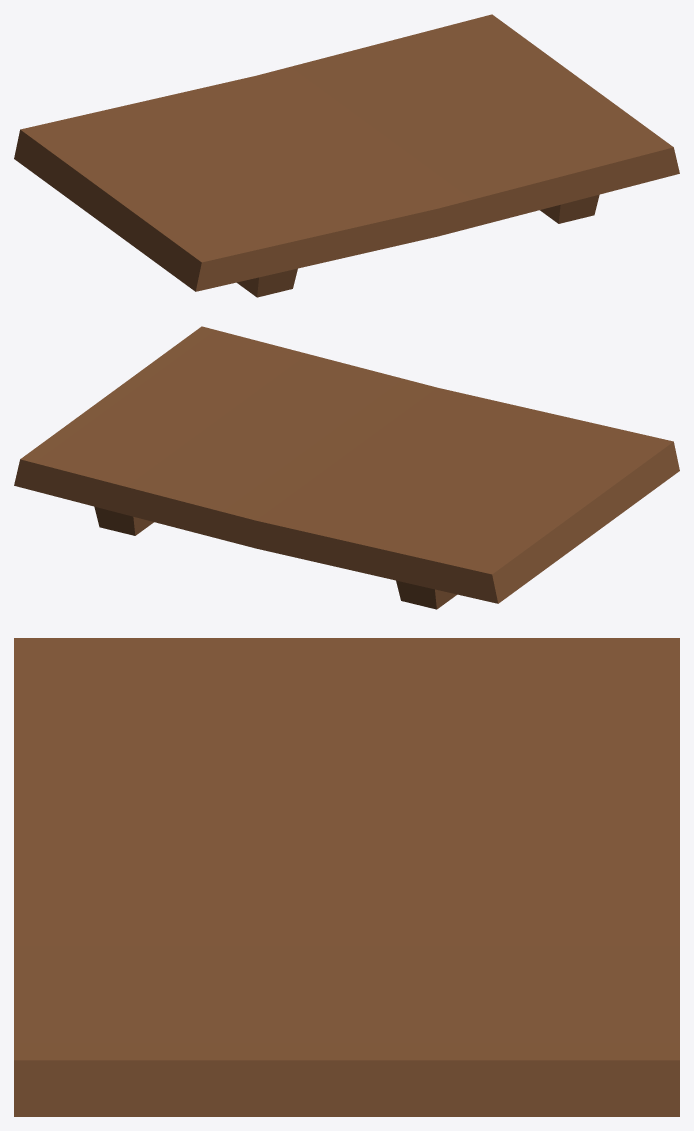
File: food_tray.fbx
3 views of the same model, one above another, from view 1: azimuth 30°, elevation 25°; view 2: azimuth 150°, elevation 25°; view 3: azimuth 270°, elevation 25° (orthographic). The views are drawn at different scales.
Parts seen in each view (by area): view 1: food_tray; view 2: food_tray; view 3: food_tray.
Part boxes in pixels (x1=…): food_tray: x1=14, y1=14, x2=679, y2=297; food_tray: x1=14, y1=326, x2=679, y2=609; food_tray: x1=14, y1=638, x2=679, y2=1116.
Bounding box in the file's own units: 200 × 24.03 × 130.
